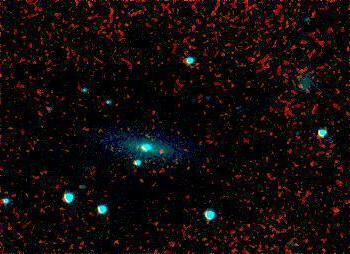star: (151, 135, 181, 165)
